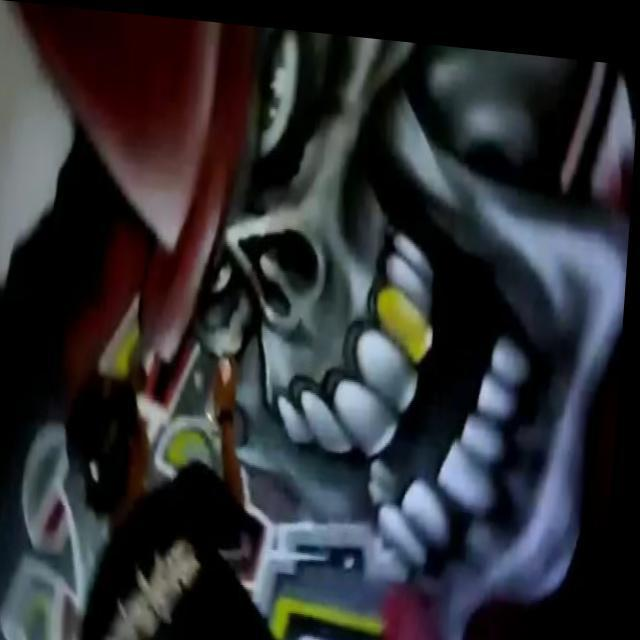-: (180, 17, 640, 553)
